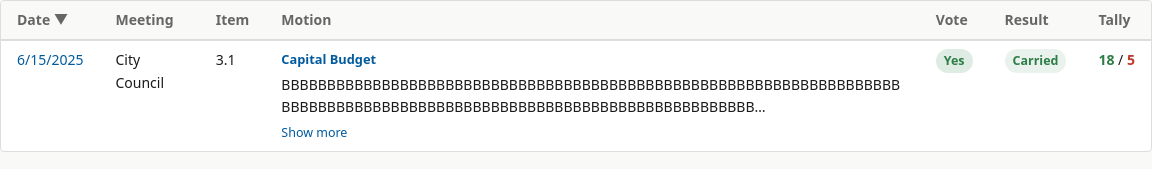
Test: VoteTable › expands truncated motion text on "Show more" click
Click the button "Show more" at (314, 133), box [281,123,347,143]
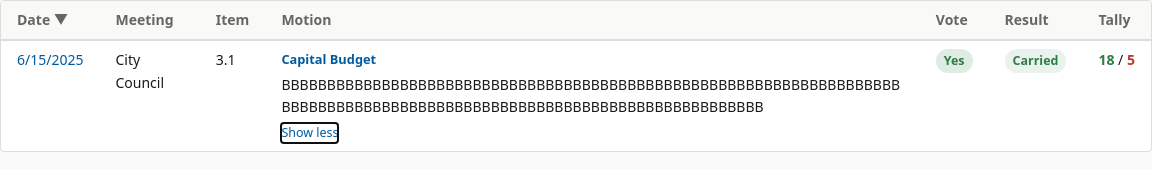
Result: the button "Show less" is shown at [281,123,338,143]
